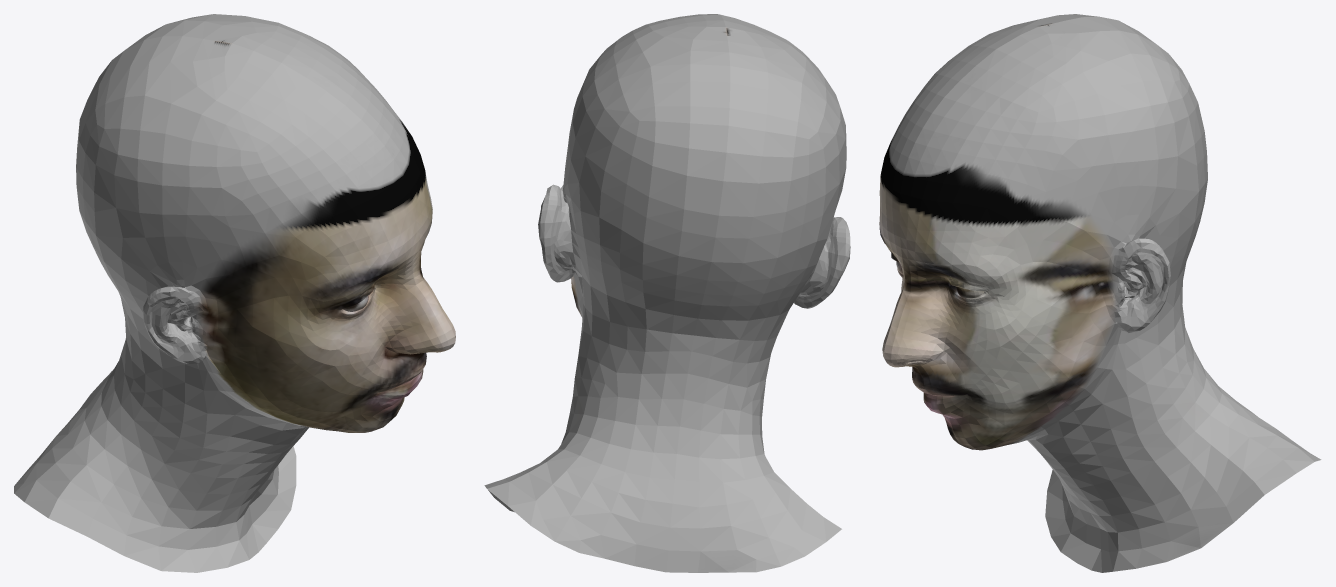
File: ezgif-frame-043.obj
The picture shows the model from 3 angles, left to right: view 1: azimuth 30°, elevation 25°; view 2: azimuth 150°, elevation 25°; view 3: azimuth 270°, elevation 25°; orthographic projection. The views are drawn at different scales.
Bounding box in the file's own units: 0.2033 × 0.3239 × 0.2522.
Materials: 1 (1 with a texture image).
